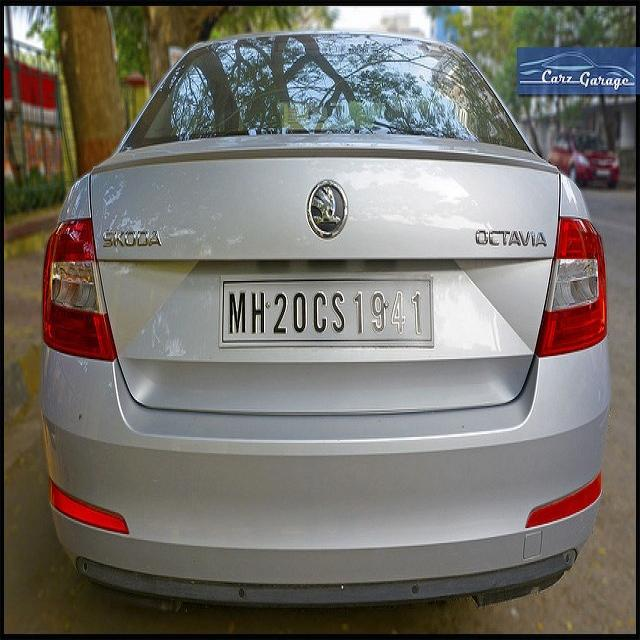number_plate: (220, 278, 429, 338)
